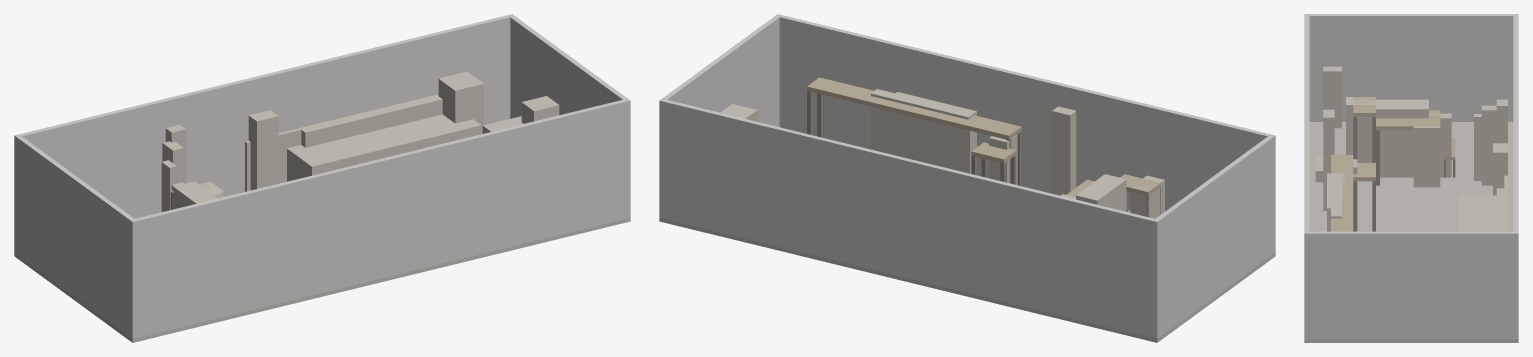
The model's file is room_blocks.glb.
The picture shows the model from 3 angles, left to right: view 1: azimuth 30°, elevation 25°; view 2: azimuth 150°, elevation 25°; view 3: azimuth 270°, elevation 25°; orthographic projection. The views are drawn at different scales.
Parts seen in each view (by area): view 1: wall_002, wall_001, wall_003, wall_004, block_009, block_017, floor_000, block_020, block_018, block_016, block_019, block_037 (+2 smaller); view 2: wall_001, wall_002, wall_003, wall_004, table_041, floor_000, block_059, block_062, block_057, block_037, block_039, block_060 (+3 smaller); view 3: wall_004, wall_003, floor_000, block_037, wall_001, wall_002, block_038, block_009, block_039, table_041, block_005, block_061 (+18 smaller).
Boxes of the visible parts, x1,y1,x2,y2 form: wall_002: (130, 98, 630, 338); wall_001: (14, 14, 514, 253); wall_003: (17, 136, 134, 336); wall_004: (510, 16, 627, 118); block_009: (287, 114, 481, 181); block_017: (301, 95, 442, 147); floor_000: (14, 218, 630, 342); block_020: (248, 110, 278, 190); block_018: (438, 71, 483, 133); block_016: (245, 94, 437, 191); block_019: (521, 96, 559, 123); block_037: (173, 181, 217, 209); wall_001: (659, 98, 1159, 338); wall_002: (775, 14, 1275, 253); wall_003: (1155, 136, 1272, 336); wall_004: (662, 16, 779, 126); table_041: (807, 77, 1021, 139); floor_000: (659, 218, 1275, 342); block_059: (912, 107, 971, 173); block_062: (1052, 106, 1076, 195); block_057: (889, 92, 976, 159); block_037: (1076, 174, 1126, 211); block_039: (1130, 175, 1164, 218); block_060: (871, 89, 894, 153); wall_004: (1309, 231, 1513, 339); wall_003: (1309, 14, 1513, 121); floor_000: (1304, 122, 1518, 342); block_037: (1376, 99, 1428, 177); wall_001: (1513, 14, 1518, 339); wall_002: (1304, 14, 1309, 339); block_038: (1413, 126, 1440, 187); block_009: (1459, 195, 1496, 231); block_039: (1346, 97, 1375, 162); table_041: (1331, 155, 1353, 231); block_005: (1481, 105, 1496, 185); block_061: (1323, 66, 1341, 128).
Bounding box in the file's own units: 4.14 × 0.9594 × 1.7.
